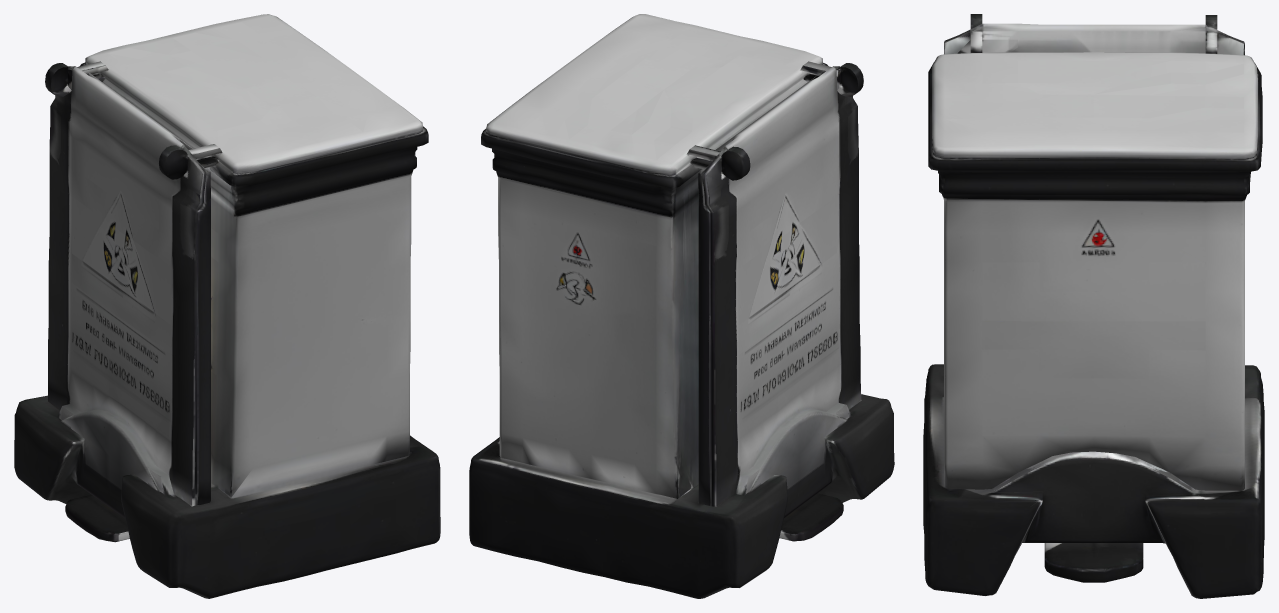
File: dustbin.fbx
3 renders of one model, left to right at view 1: azimuth 30°, elevation 25°; view 2: azimuth 150°, elevation 25°; view 3: azimuth 270°, elevation 25°, orthographic. The views are drawn at different scales.
Parts seen in each view (by area): view 1: tripo_node_f1613b54; view 2: tripo_node_f1613b54; view 3: tripo_node_f1613b54.
Boxes of the visible parts, left/top/right/bottom form: tripo_node_f1613b54: left=14, top=14, right=440, bottom=598; tripo_node_f1613b54: left=469, top=14, right=894, bottom=598; tripo_node_f1613b54: left=923, top=14, right=1264, bottom=598.
Bounding box in the file's own units: 68.99 × 94.43 × 63.32.
Materials: 1 (1 with a texture image).
